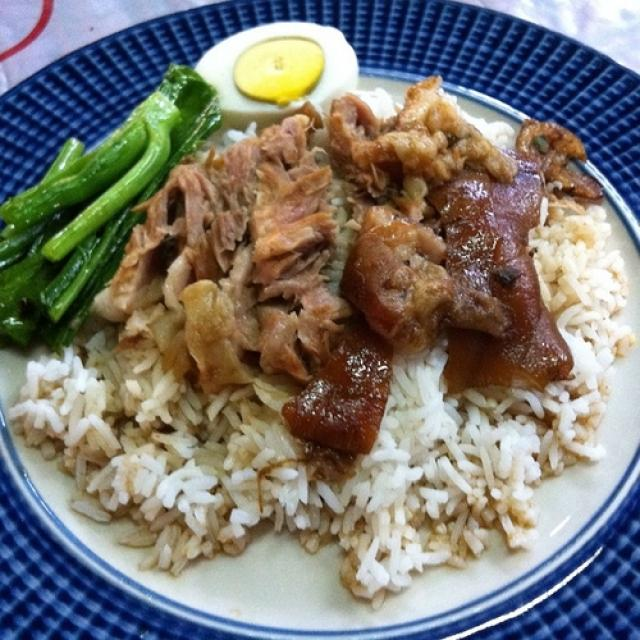猪肉菜式: (27, 23, 630, 608)
